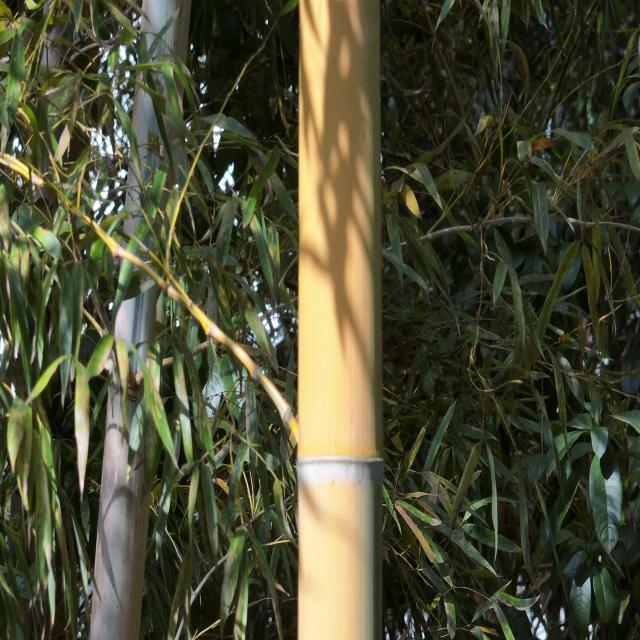Bamboo-shoots: (300, 0, 384, 640)
